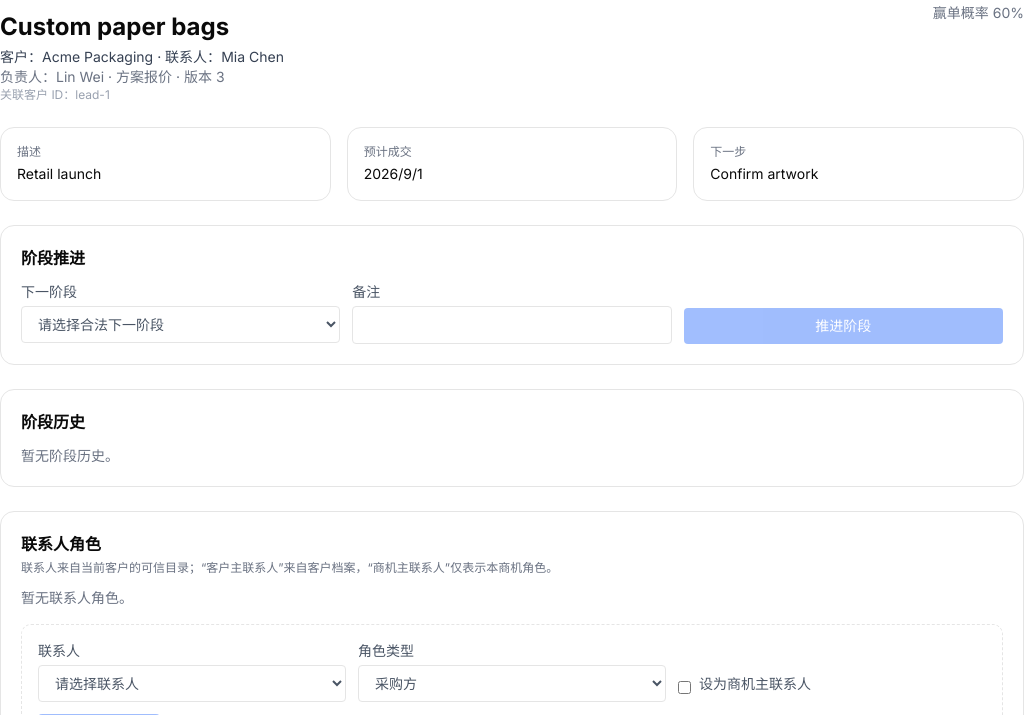
Test: Opportunity frontend contract › shows stable 403, 409, and 400 role errors
This screenshot has width=1024, height=715.
Select "Mia Chen · Procurement Manager · 客户主联系人" in the dropdown named "可信联系人" at [192, 684], box [38, 665, 346, 702]
(page scrolled)
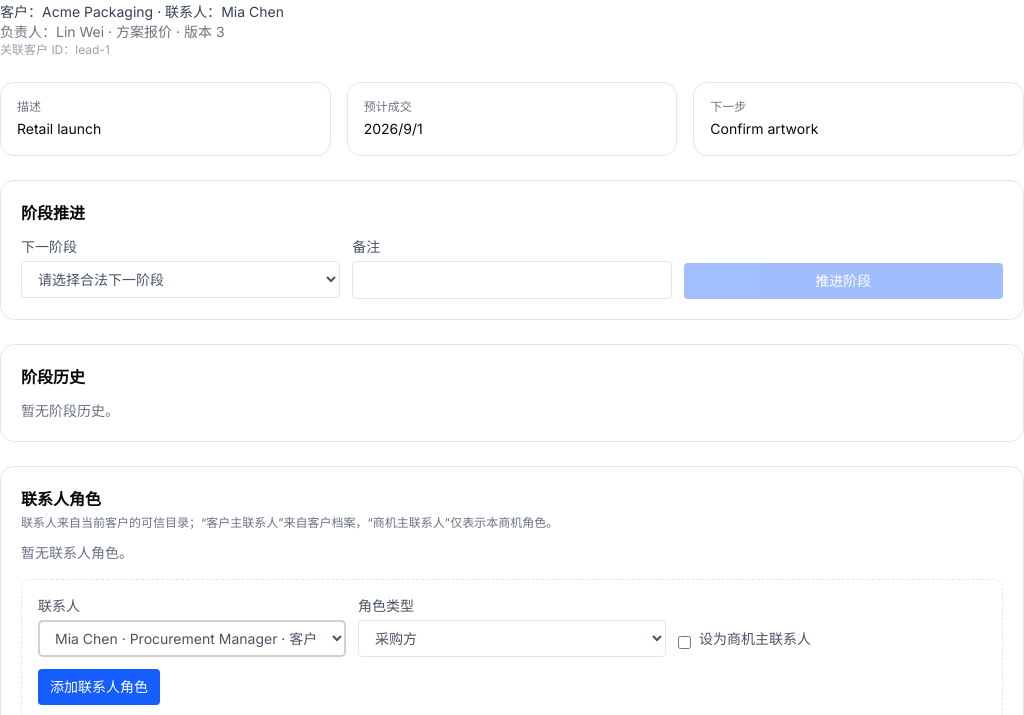
Click the button "添加联系人角色".
click(99, 687)  # box [38, 669, 160, 705]
(page scrolled)
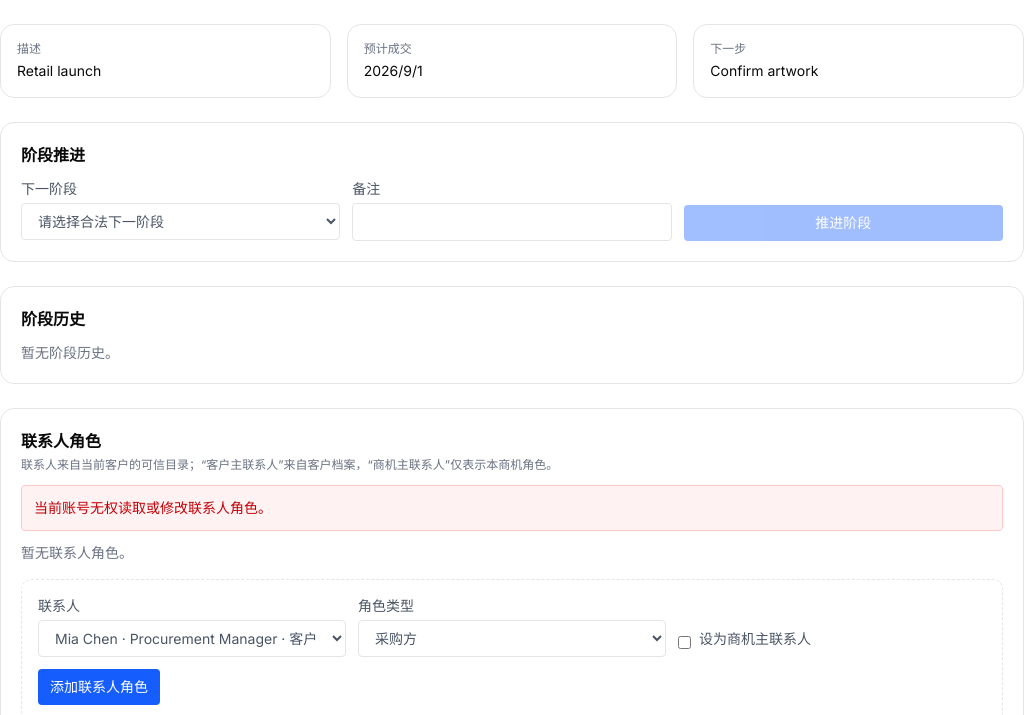
Result: the message reads "当前账号无权读取或修改联系人角色。" at [34, 499, 272, 516]
Click the button "添加联系人角色".
click(99, 687)  # box [38, 669, 160, 705]
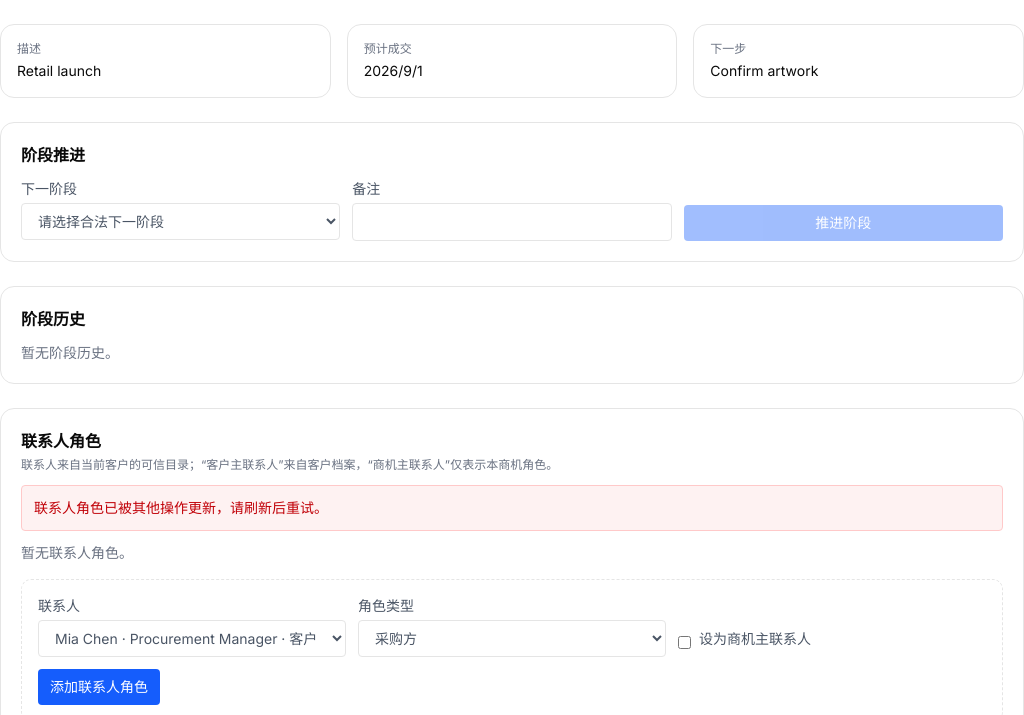
Result: the message reads "联系人角色已被其他操作更新，请刷新后重试。" at [34, 499, 328, 516]
Click the button "添加联系人角色".
click(99, 687)  # box [38, 669, 160, 705]
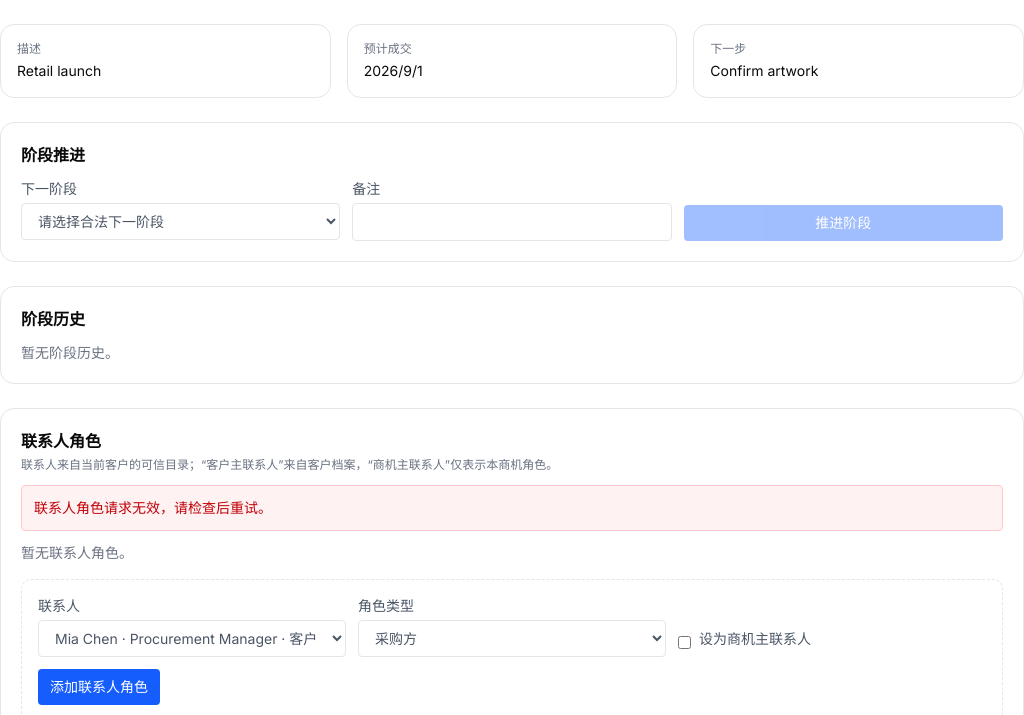
Result: the message reads "联系人角色请求无效，请检查后重试。" at [34, 499, 272, 516]
